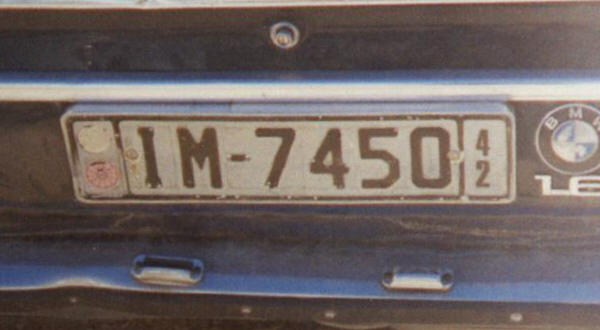license_plate: (60, 114, 515, 204)
